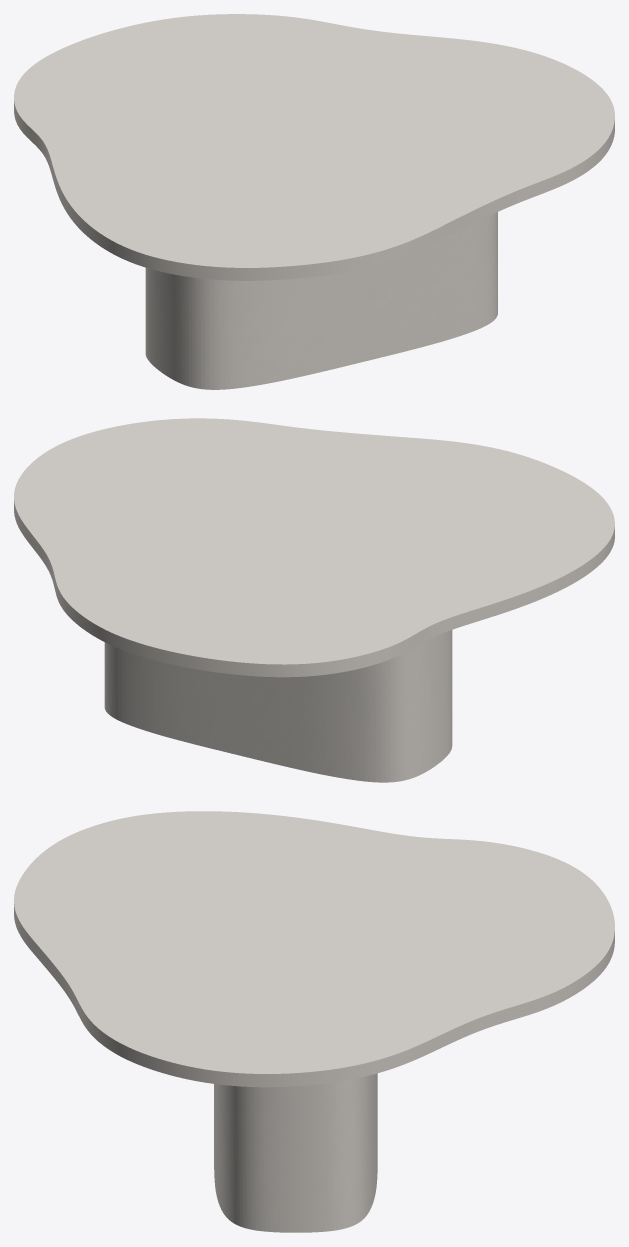
File: pearlwhite_topone_standard_fixed.glb
3 renders of one model, top to bottom at view 1: azimuth 30°, elevation 25°; view 2: azimuth 150°, elevation 25°; view 3: azimuth 270°, elevation 25°, orthographic. The views are drawn at different scales.
Parts seen in each view (by area): view 1: standard_topone, fixed; view 2: standard_topone, fixed; view 3: standard_topone, fixed.
Boxes of the visible parts, box(x1,y1,x2,y2) form: standard_topone: box(14, 14, 614, 280); fixed: box(145, 212, 497, 389); standard_topone: box(14, 418, 614, 677); fixed: box(104, 630, 452, 782); standard_topone: box(14, 811, 614, 1087); fixed: box(214, 1073, 377, 1232).
Bounding box in the file's own units: 6.83 × 2.5 × 6.6.
Materials: 1 (1 with a texture image).
